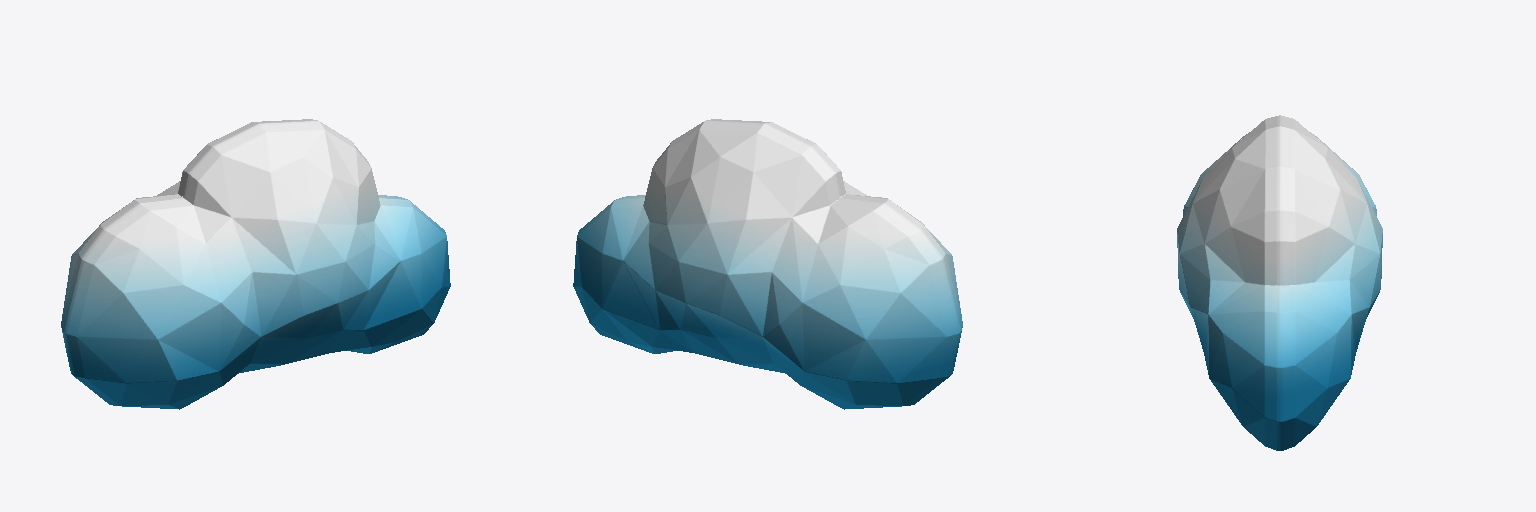
3 views of the same model, side by side, from view 1: azimuth 30°, elevation 25°; view 2: azimuth 150°, elevation 25°; view 3: azimuth 270°, elevation 25° (orthographic).
Visible parts, largest first — view 1: Origami_cloud2; view 2: Origami_cloud2; view 3: Origami_cloud2.
Boxes of the visible parts, x1,y1,x2,y2 form: Origami_cloud2: [61, 119, 450, 409]; Origami_cloud2: [573, 119, 962, 409]; Origami_cloud2: [1177, 115, 1382, 450].
Size of the model in its own units: 244 by 159 by 113.
1 materials, 1 textured.